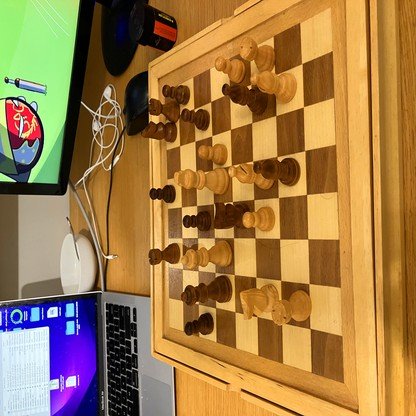bishop_black: (222, 84, 267, 113), (253, 159, 301, 185)
bishop_white: (251, 72, 297, 102), (229, 163, 275, 189)
king_white: (174, 169, 229, 193)
knight_black: (214, 202, 249, 229), (141, 124, 177, 142)
knight_white: (240, 285, 278, 320)
pawn_black: (184, 312, 213, 335), (182, 110, 210, 130), (183, 212, 212, 231), (162, 85, 190, 104), (149, 186, 176, 203)
pawn_white: (241, 207, 275, 232), (216, 58, 246, 82), (199, 144, 227, 165)
queen_black: (181, 276, 232, 305)
queen_white: (181, 240, 232, 269)
rock_black: (149, 98, 180, 122), (149, 242, 180, 266)
rock_white: (272, 289, 311, 326), (240, 37, 275, 70)
